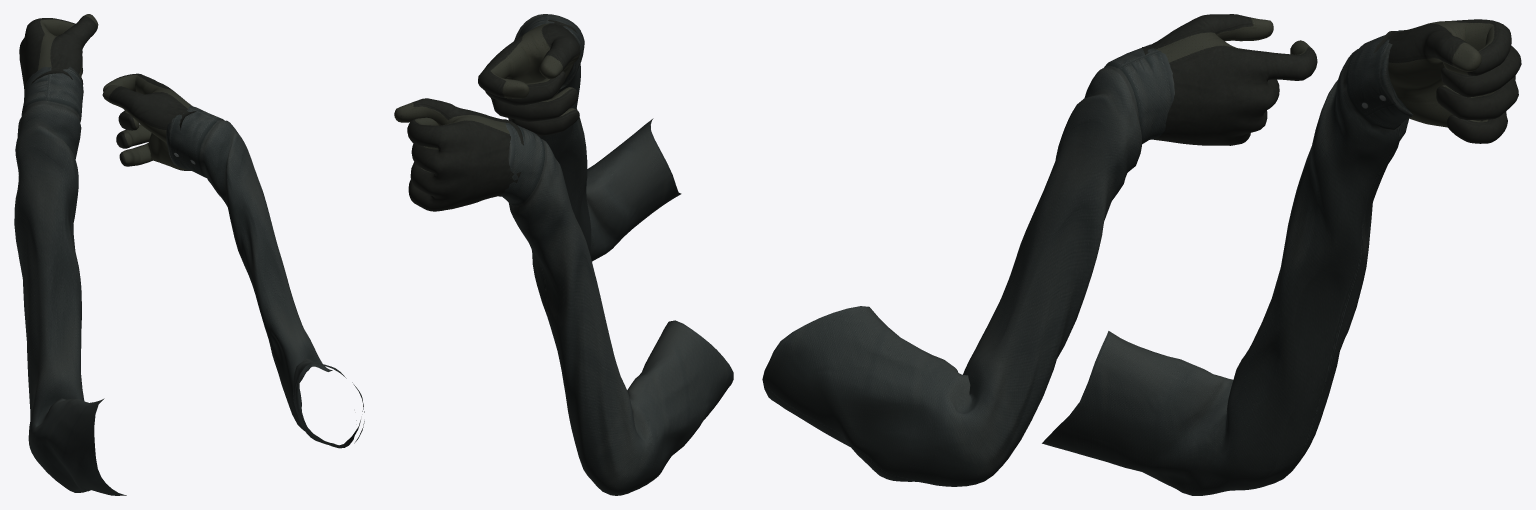
Rendered from smg45_rifle_arms.glb.
3 renders of one model, left to right at view 1: azimuth 30°, elevation 25°; view 2: azimuth 150°, elevation 25°; view 3: azimuth 270°, elevation 25°, orthographic. The views are drawn at different scales.
Parts seen in each view (by area): view 1: LeftArmMesh, RightArmMesh; view 2: LeftArmMesh, RightArmMesh; view 3: RightArmMesh, LeftArmMesh.
Boxes of the visible parts, x1,y1,x2,y2 form: LeftArmMesh: [14, 14, 126, 495]; RightArmMesh: [102, 73, 364, 448]; LeftArmMesh: [394, 98, 733, 495]; RightArmMesh: [478, 14, 681, 261]; RightArmMesh: [762, 14, 1317, 486]; LeftArmMesh: [1042, 19, 1521, 495].
Size of the model in its own units: 0.6176 by 1.09 by 1.42.
4 materials, 4 textured.
